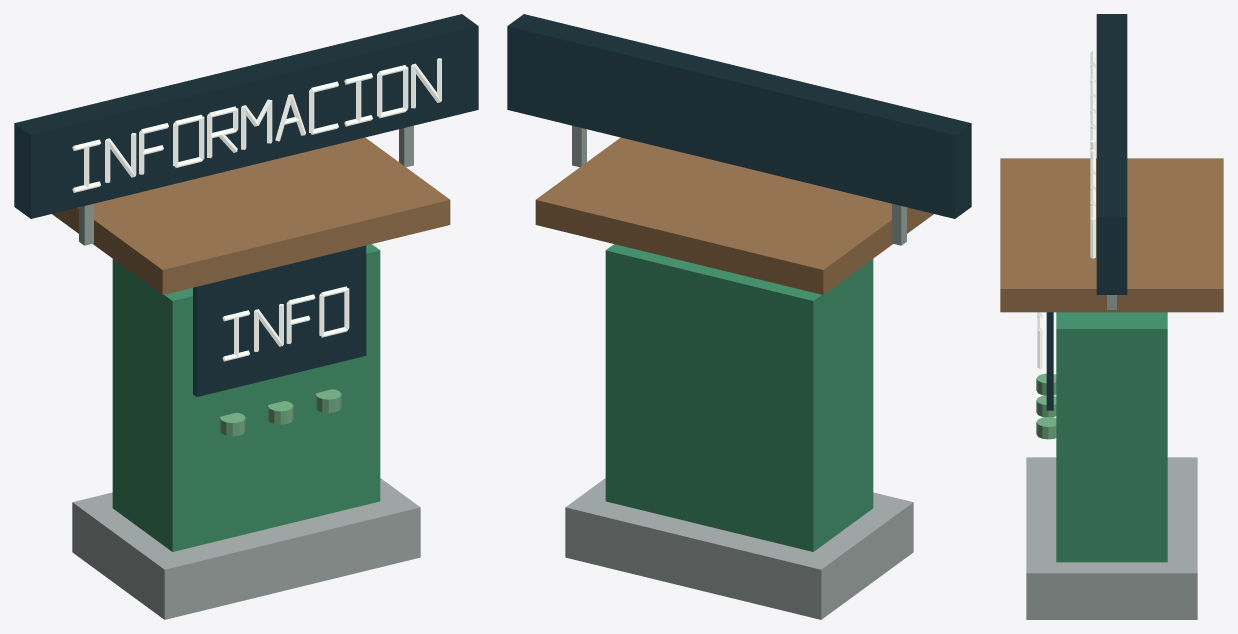
Rendered from PLAZA-013.glb.
The picture shows the model from 3 angles, left to right: view 1: azimuth 30°, elevation 25°; view 2: azimuth 150°, elevation 25°; view 3: azimuth 270°, elevation 25°; orthographic projection. The views are drawn at different scales.
Visible parts, largest first — view 1: PLAZA-013.006; view 2: PLAZA-013.006; view 3: PLAZA-013.006.
Boxes of the visible parts, bbox=[...] form: PLAZA-013.006: bbox=[14, 14, 478, 619]; PLAZA-013.006: bbox=[507, 14, 971, 619]; PLAZA-013.006: bbox=[1000, 14, 1223, 619].
Size of the model in its own units: 2.8 by 2.87 by 1.3.
